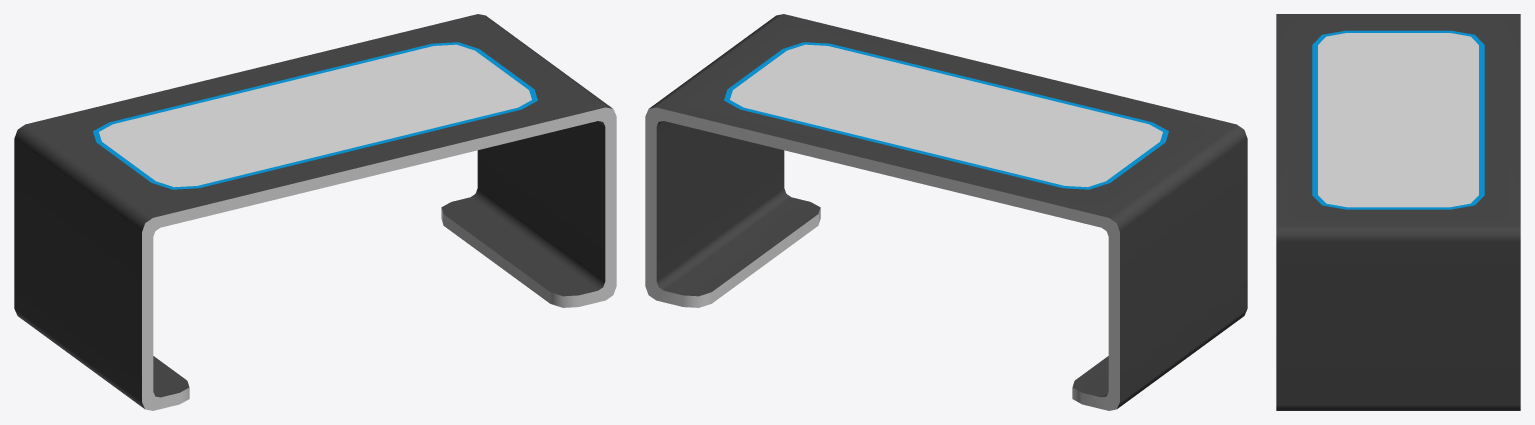
Rendered from Table_005.fbx.
The picture shows the model from 3 angles, left to right: view 1: azimuth 30°, elevation 25°; view 2: azimuth 150°, elevation 25°; view 3: azimuth 270°, elevation 25°; orthographic projection. The views are drawn at different scales.
Parts seen in each view (by area): view 1: Table_005; view 2: Table_005; view 3: Table_005.
Part boxes in pixels (x1=…): Table_005: x1=14, y1=14, x2=616, y2=410; Table_005: x1=645, y1=14, x2=1247, y2=410; Table_005: x1=1276, y1=14, x2=1520, y2=410.
Bounding box in the file's own units: 224 × 104 × 87.13.
